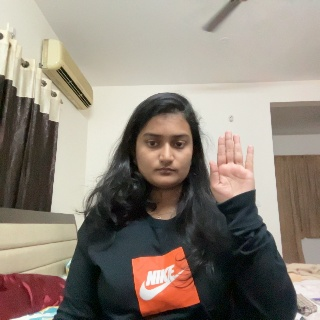Face: (133, 98, 193, 189)
Hello: (208, 131, 260, 218)
